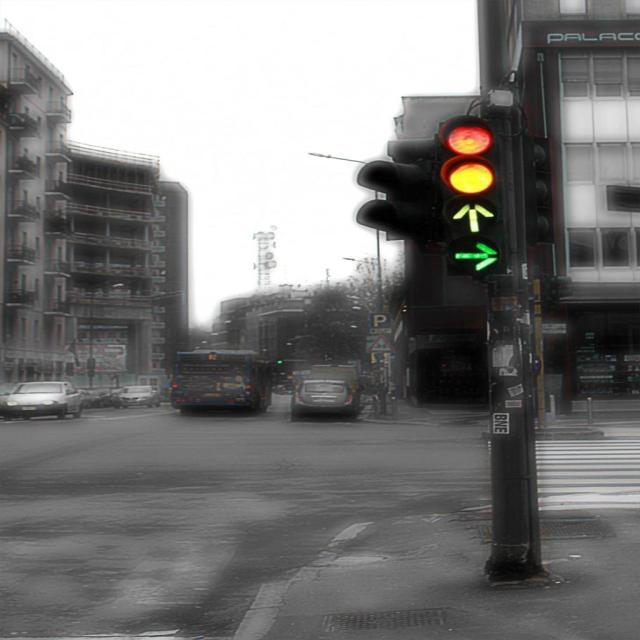traffic light: (440, 109, 507, 282)
